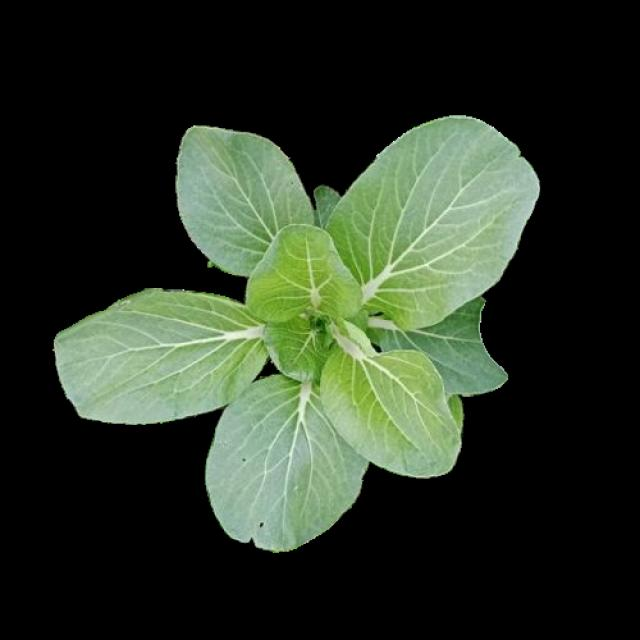not-mature: (59, 124, 530, 545)
unhealthy: (206, 376, 367, 548), (56, 290, 262, 420)
